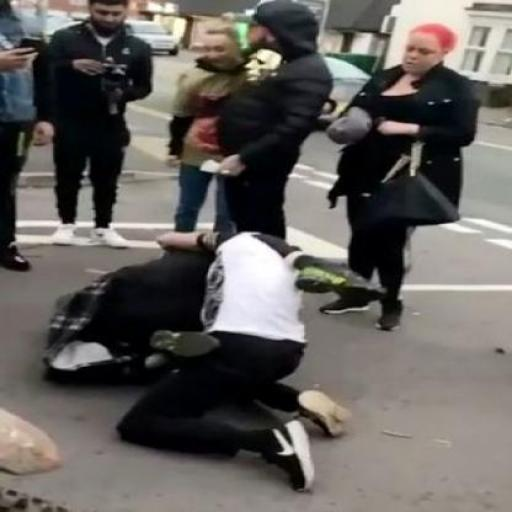Fighting: (43, 218, 350, 501)
